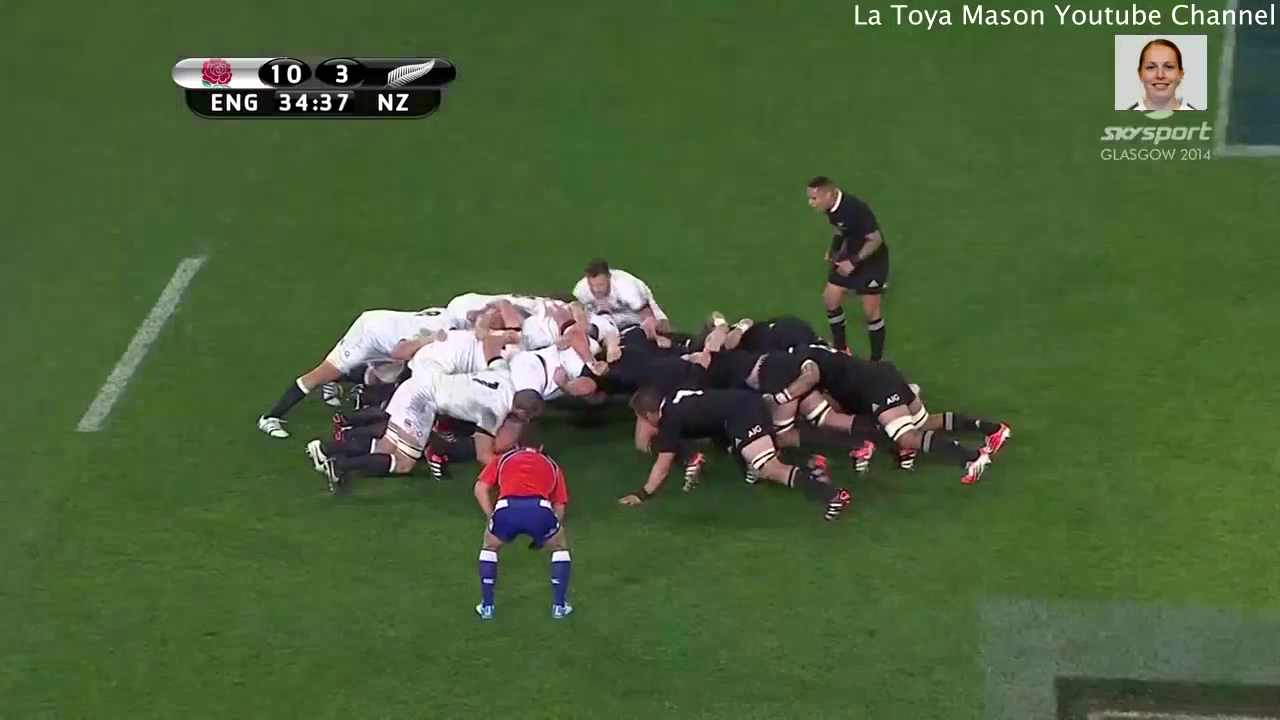player: (617, 385, 857, 522), (317, 364, 545, 500), (788, 345, 1009, 484), (249, 303, 437, 448), (469, 436, 593, 624), (797, 172, 893, 365), (569, 253, 665, 323)
scrum: (245, 284, 1013, 530)
